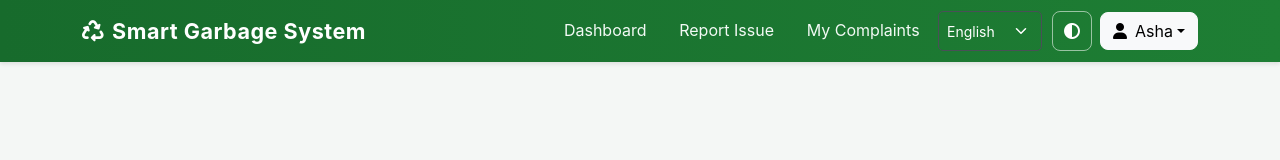
Test case: LanguageSwitcher in the Header › shows the switcher for logged-in citizens too
Expected: the link "My Complaints" is shown, left=807, top=20, right=920, bottom=40
Select "हिन्दी" in the dropdown at {"x": 990, "y": 31}, box left=938, top=11, right=1042, bottom=51
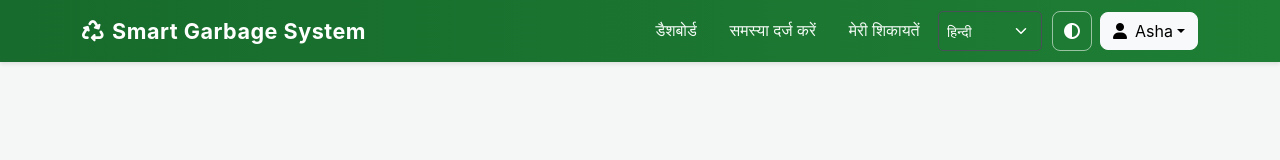
Expected: the link "मेरी शिकायतें" is shown, left=849, top=20, right=920, bottom=40
